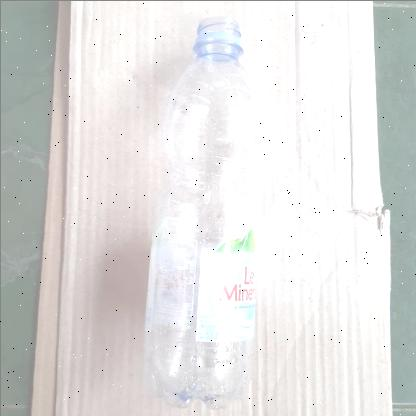Plastic Bottle: (134, 0, 302, 416)
